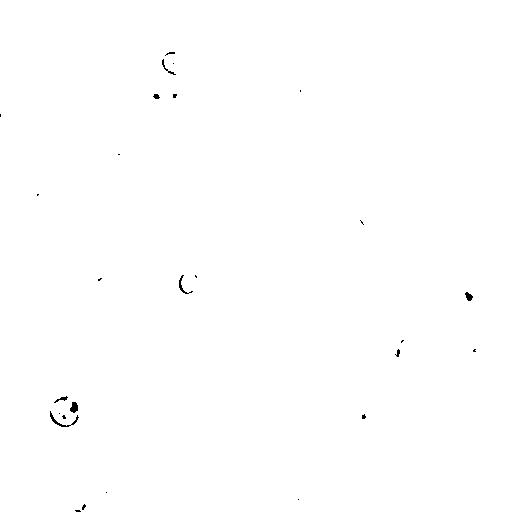micro-algae: (295, 181, 403, 289), (0, 109, 77, 185), (345, 436, 411, 499), (27, 289, 89, 348), (235, 448, 290, 502), (290, 478, 339, 511), (371, 346, 409, 383), (236, 63, 270, 104), (449, 277, 485, 313), (191, 26, 225, 61), (49, 395, 80, 428), (132, 169, 163, 201), (64, 0, 94, 33), (348, 397, 377, 429), (87, 86, 116, 116), (410, 300, 439, 329), (436, 0, 471, 24), (161, 79, 191, 107), (54, 40, 83, 68), (103, 137, 131, 166), (89, 470, 117, 499), (340, 419, 367, 449), (197, 67, 232, 90), (45, 4, 75, 30), (283, 75, 310, 102), (475, 371, 504, 396), (175, 387, 207, 409), (88, 263, 113, 291), (159, 49, 185, 75), (164, 109, 194, 131), (63, 393, 89, 418), (203, 484, 233, 505), (173, 467, 197, 492), (361, 76, 389, 97), (461, 337, 485, 361), (16, 30, 39, 55), (178, 271, 201, 296), (247, 136, 271, 159), (156, 307, 179, 331), (286, 111, 307, 137), (395, 337, 415, 364), (123, 268, 143, 295), (281, 487, 305, 509), (138, 419, 162, 440), (259, 102, 282, 123), (357, 203, 375, 229), (1, 103, 19, 123), (133, 299, 151, 319), (65, 496, 88, 511), (433, 409, 446, 431), (503, 344, 512, 369), (154, 464, 169, 479), (32, 180, 43, 199)
